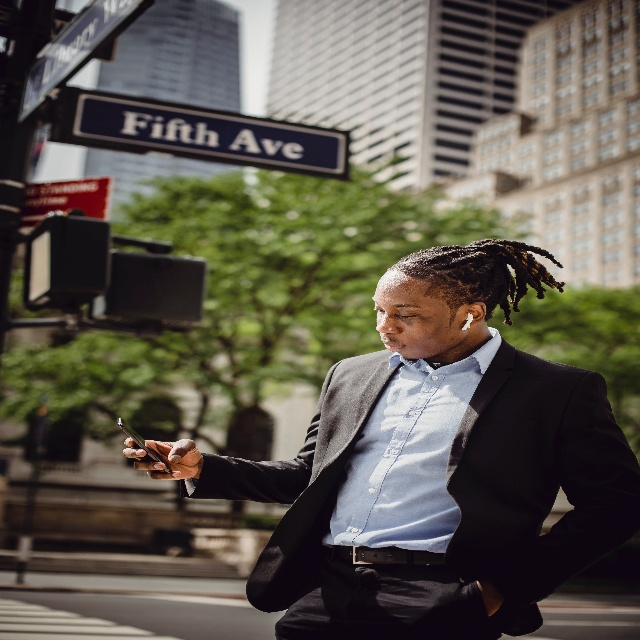Sin_guantes: (123, 433, 199, 481), (478, 578, 502, 616)
